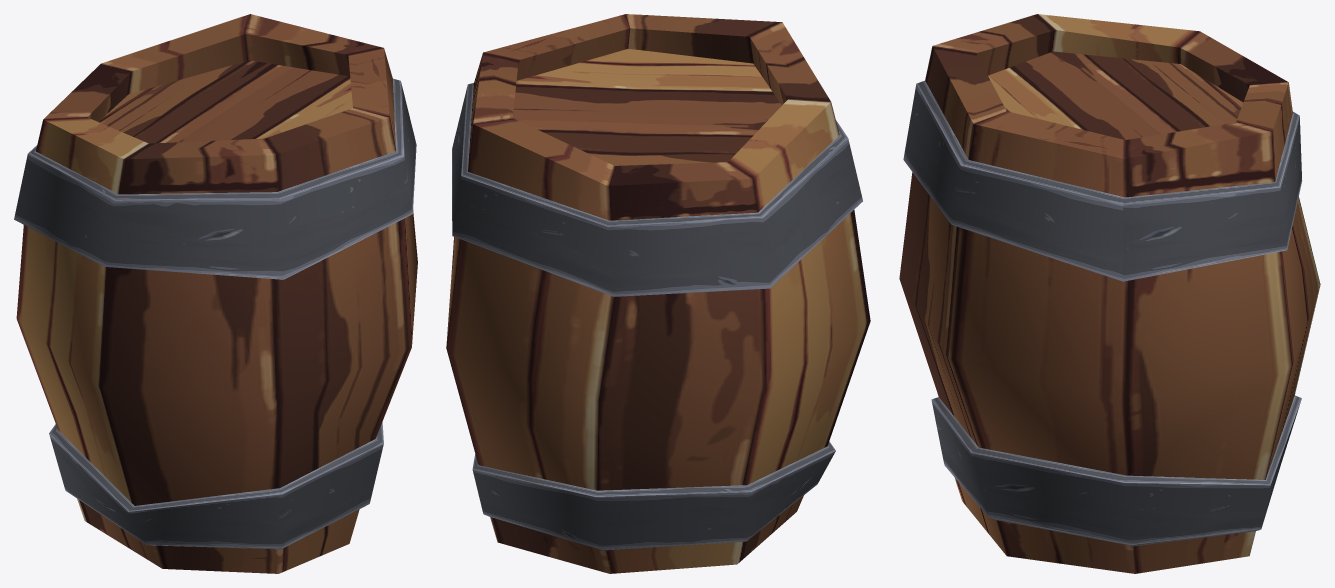
Rendered from tonneau-1.glb.
3 views of the same model, side by side, from view 1: azimuth 30°, elevation 25°; view 2: azimuth 150°, elevation 25°; view 3: azimuth 270°, elevation 25° (orthographic). The views are drawn at different scales.
Parts seen in each view (by area): view 1: SM_PROP_barrel_01; view 2: SM_PROP_barrel_01; view 3: SM_PROP_barrel_01.
Part boxes in pixels (box(x1,y1,x2,y2)): SM_PROP_barrel_01: box(14, 14, 417, 573); SM_PROP_barrel_01: box(446, 14, 870, 573); SM_PROP_barrel_01: box(899, 14, 1320, 573).
Size of the model in its own units: 0.7716 by 0.8929 by 0.7497.
2 materials, 2 textured.
